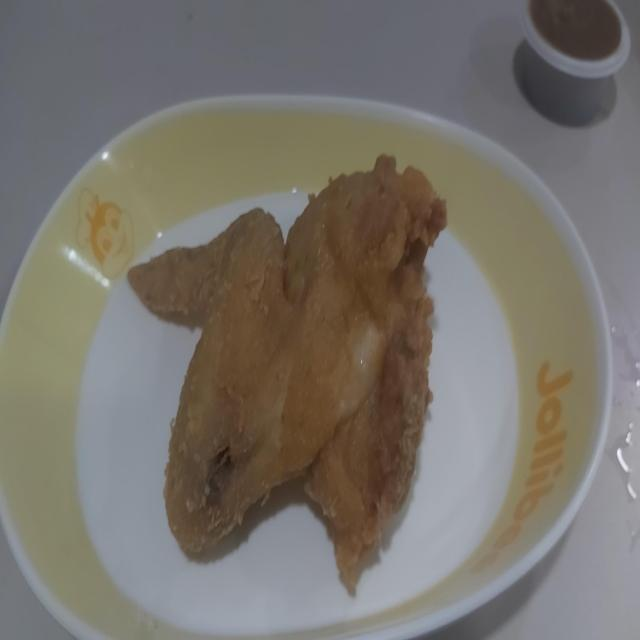Chicken -Fried Chicken-: (111, 150, 455, 588)
